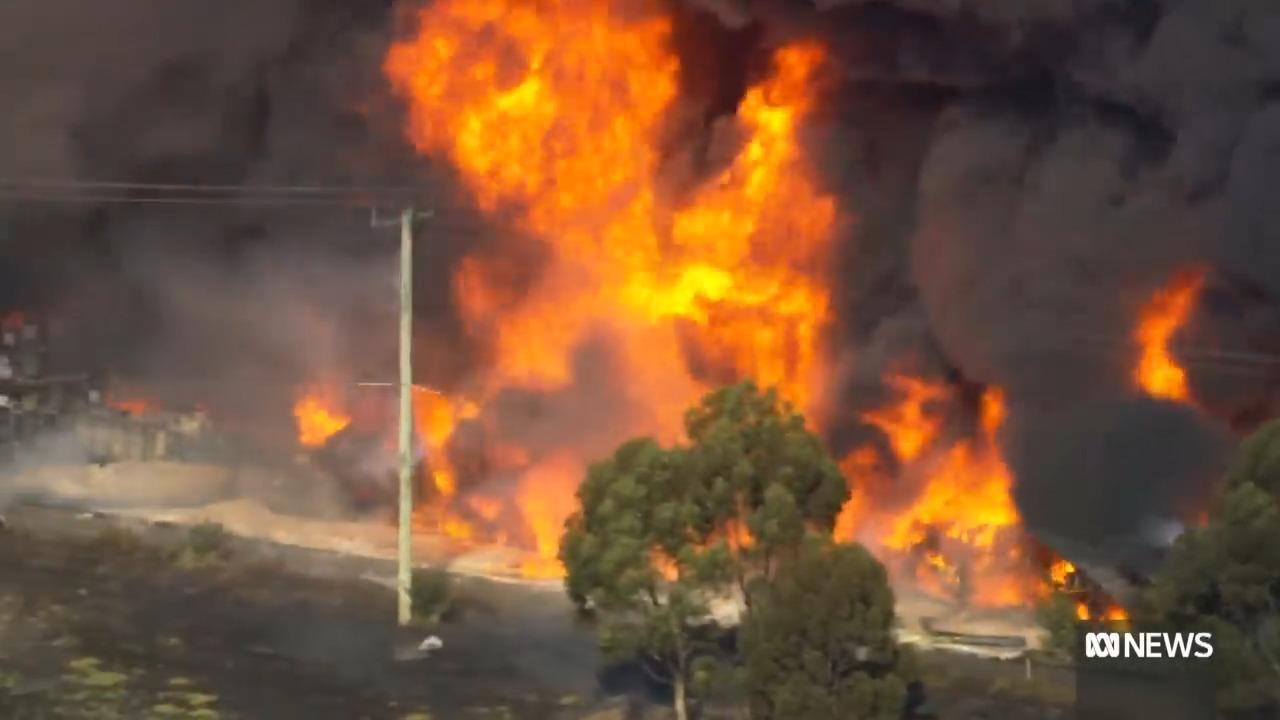fire: (408, 4, 854, 427), (811, 371, 1132, 639), (420, 443, 578, 572), (1121, 284, 1216, 411), (267, 387, 364, 457)
